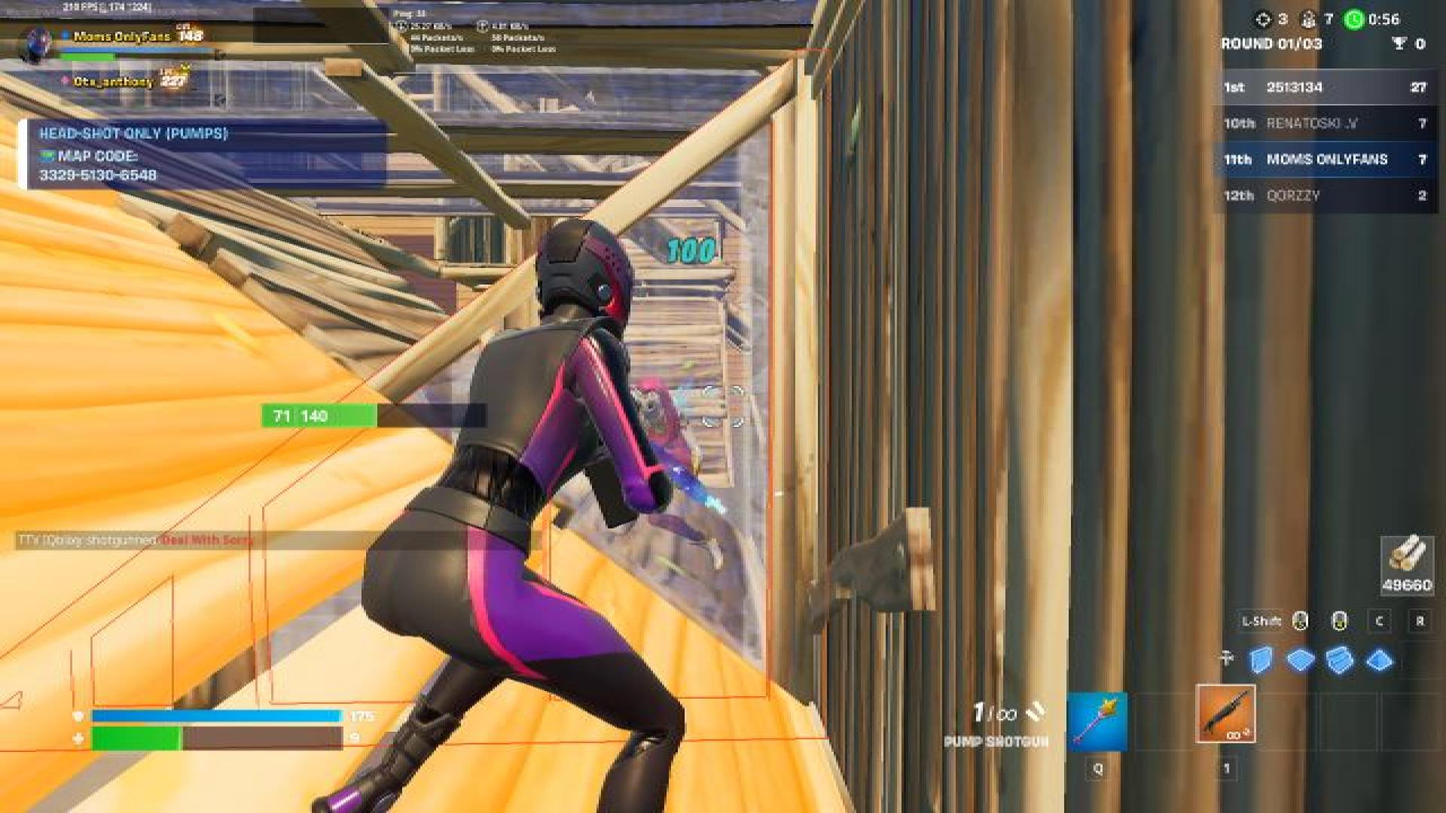player: (627, 379, 756, 566)
